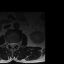CCS_normal: (11, 40, 14, 49)
LFS_normal: (16, 41, 17, 46)
LLS_normal: (14, 41, 16, 47)
RFS_normal: (7, 41, 9, 46)
RLS_normal: (9, 41, 11, 47)
